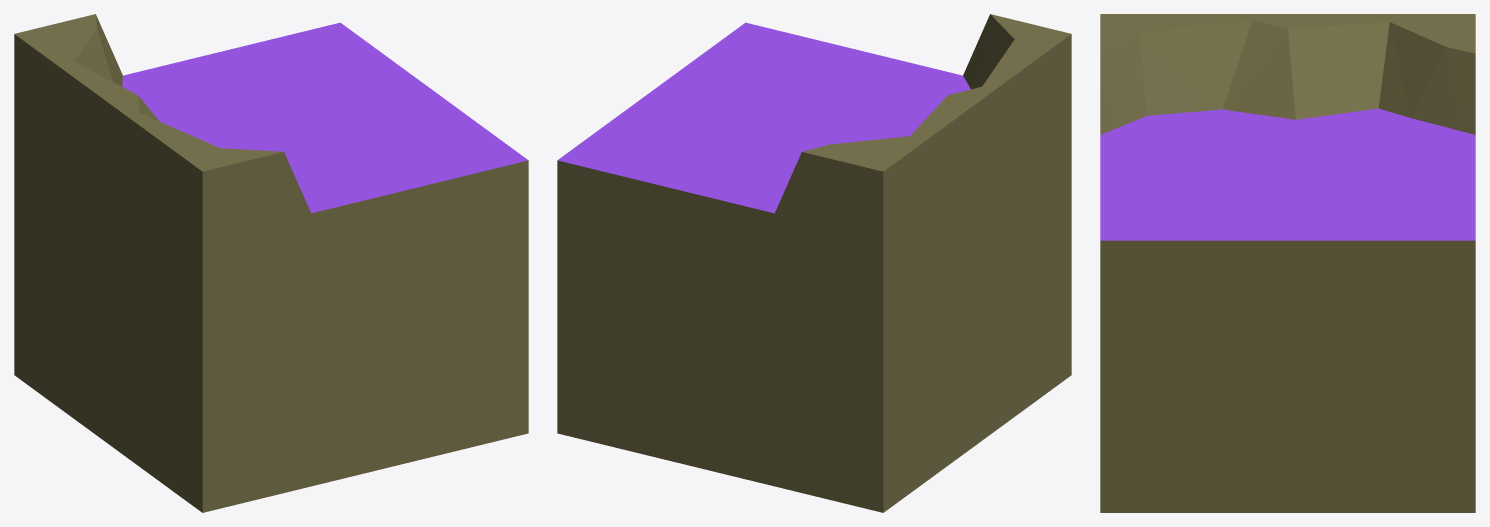
Rendered from tile_toxic_deep2_5b_01.fbx.
3 views of the same model, side by side, from view 1: azimuth 30°, elevation 25°; view 2: azimuth 150°, elevation 25°; view 3: azimuth 270°, elevation 25° (orthographic).
Visible parts, largest first — view 1: tile_toxic_deep2_5b_01; view 2: tile_toxic_deep2_5b_01; view 3: tile_toxic_deep2_5b_01.
Part boxes in pixels (x1,y1,x2,y2): tile_toxic_deep2_5b_01: (14,14,528,512); tile_toxic_deep2_5b_01: (557,14,1071,512); tile_toxic_deep2_5b_01: (1100,14,1475,512).
Size of the model in its own units: 100 by 100 by 100.
